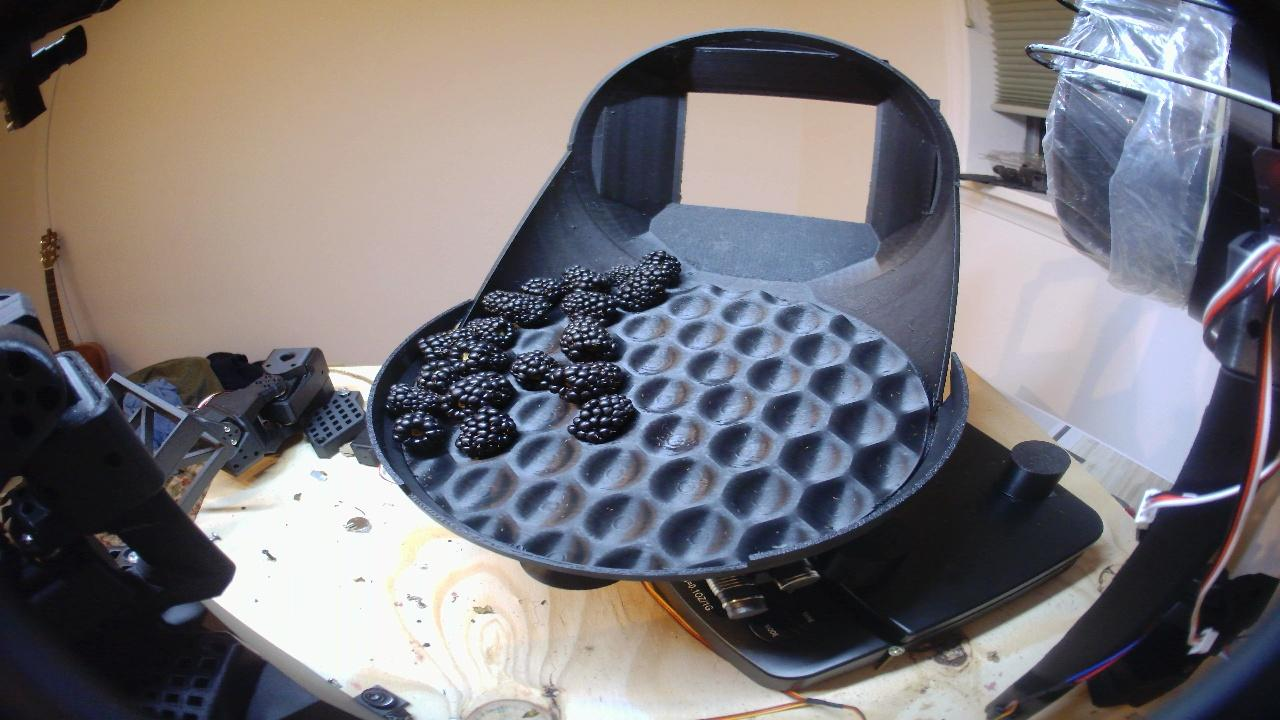berry: (445, 371, 515, 419), (455, 406, 518, 458), (568, 395, 637, 442), (553, 362, 625, 403), (561, 316, 618, 361), (481, 290, 551, 326), (442, 338, 511, 374), (611, 267, 666, 310), (394, 411, 445, 455), (387, 384, 449, 418), (511, 351, 560, 389), (415, 359, 463, 394), (417, 329, 470, 359), (464, 317, 515, 348), (561, 291, 617, 319), (640, 251, 681, 285), (520, 277, 565, 303), (562, 265, 607, 291), (605, 265, 635, 286)
